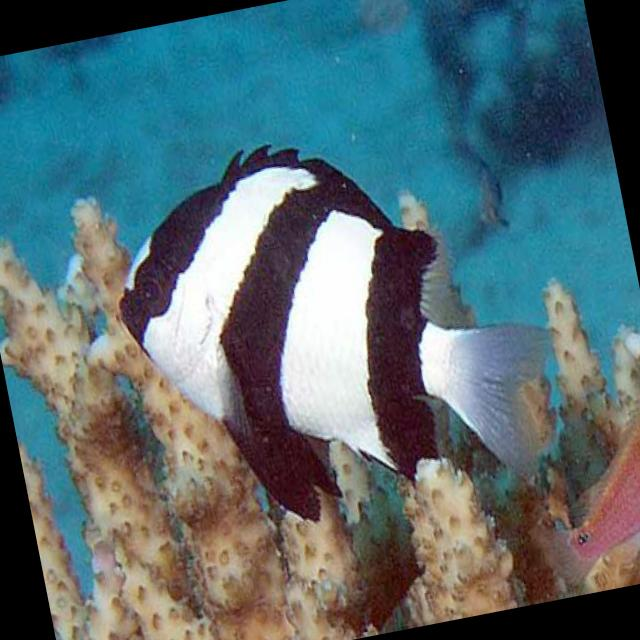Three_striped DasmselFish: (92, 96, 585, 561)
